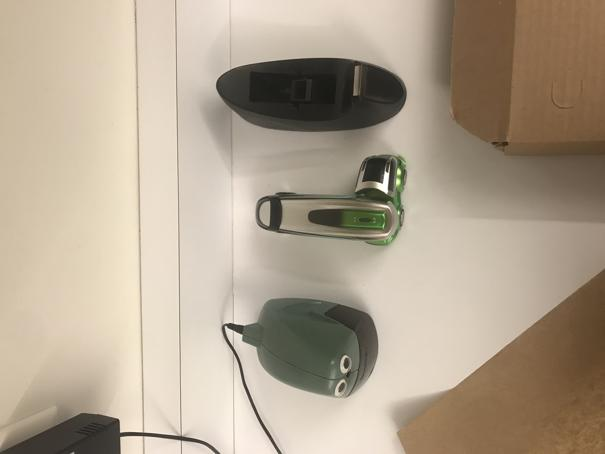Freewheel: (256, 153, 409, 247)
